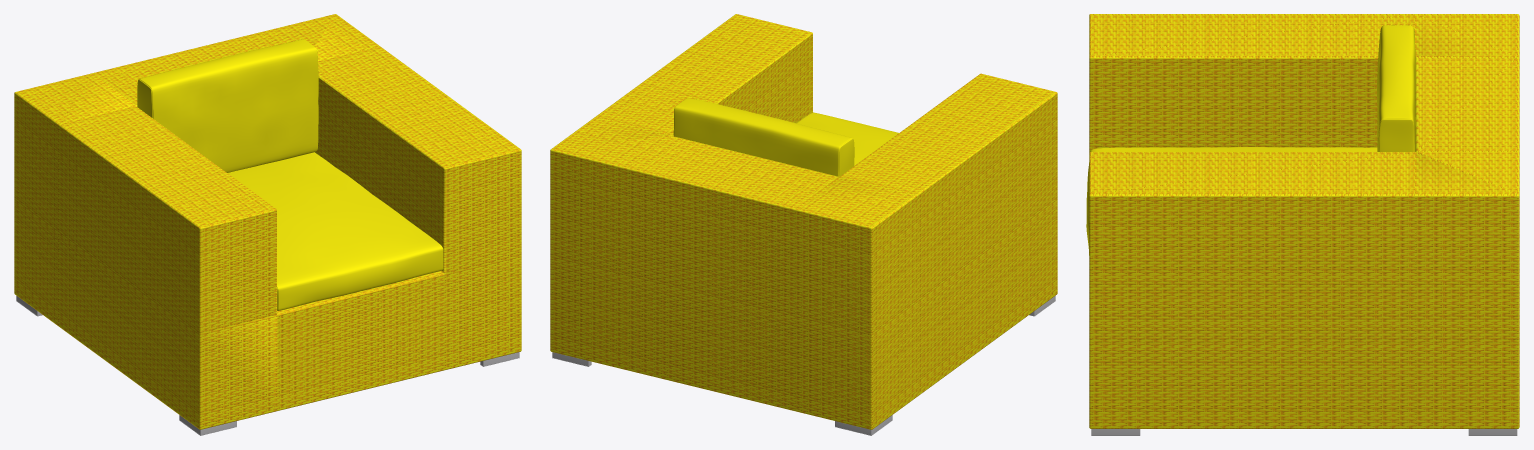
3 views of the same model, side by side, from view 1: azimuth 30°, elevation 25°; view 2: azimuth 150°, elevation 25°; view 3: azimuth 270°, elevation 25° (orthographic). The views are drawn at different scales.
Bounding box in the file's own units: 1.06 × 0.75 × 1.06.
3 materials, 3 textured.
